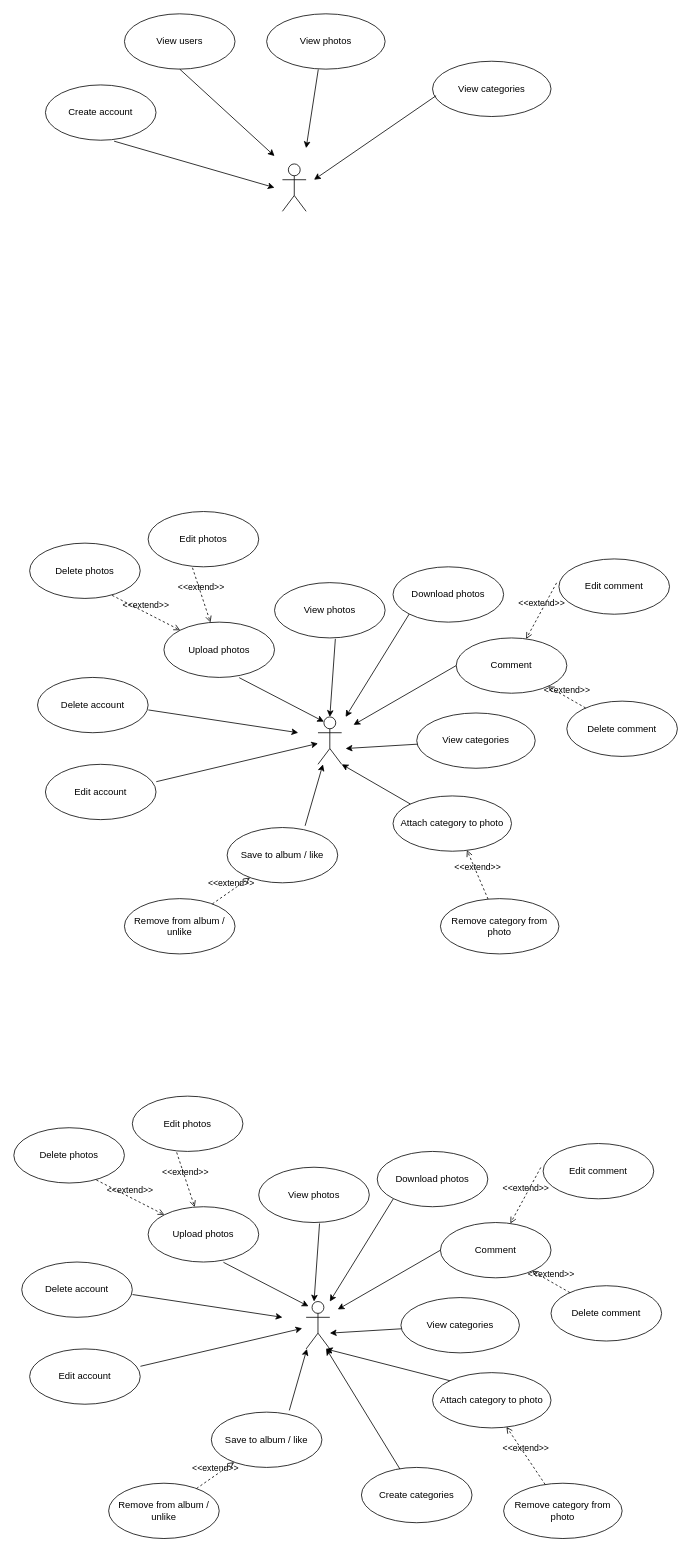
The diagram is 691 pixels wide and 1552 high, and some of its shapes have lost their labels. The shapes that lost their labels are listed below. From the top down, each one's centre as x and y in pixels, then its label:
At (294,187): "Visitor".
At (329,740): "User".
At (317,1325): "Administrator".
